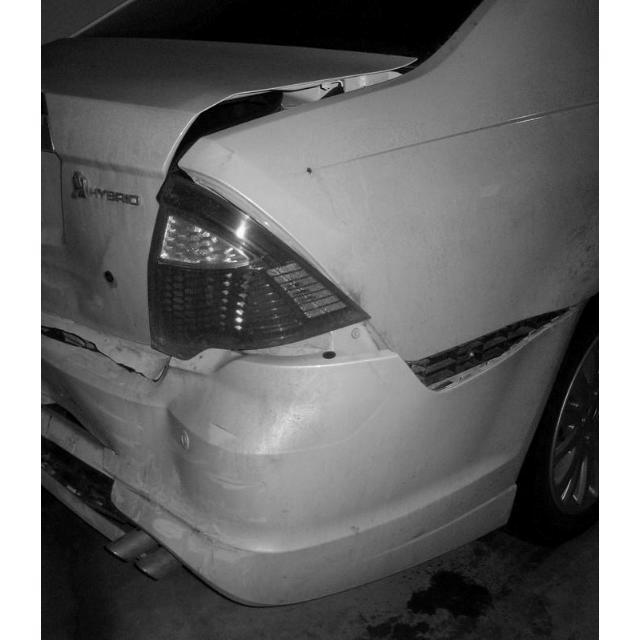boot-dent: (65, 45, 440, 269)
rear-bumper-dent: (41, 345, 451, 590)
